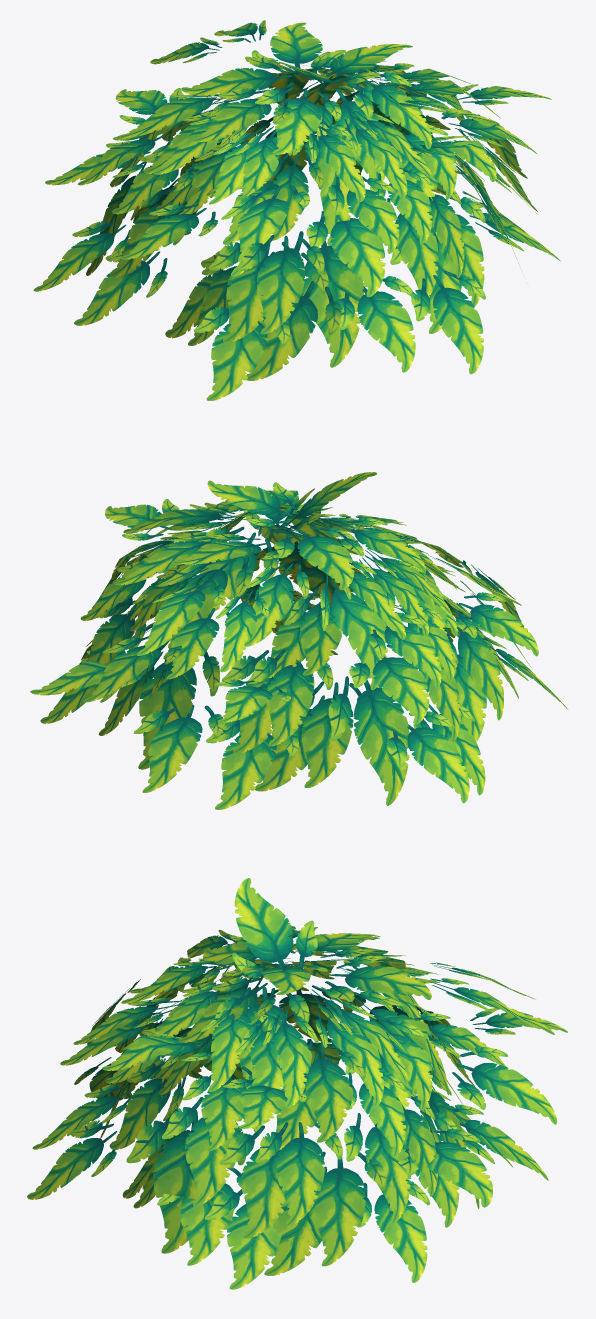
Rendered from SM_Bush1.fbx.
3 views of the same model, one above another, from view 1: azimuth 30°, elevation 25°; view 2: azimuth 150°, elevation 25°; view 3: azimuth 270°, elevation 25° (orthographic). The views are drawn at different scales.
Parts seen in each view (by area): view 1: Bush1Mesh; view 2: Bush1Mesh; view 3: Bush1Mesh.
Boxes of the visible parts, x1,y1,x2,y2 form: Bush1Mesh: [33, 20, 560, 400]; Bush1Mesh: [30, 472, 568, 809]; Bush1Mesh: [27, 878, 567, 1289].
Bounding box in the file's own units: 396 × 224 × 400.
